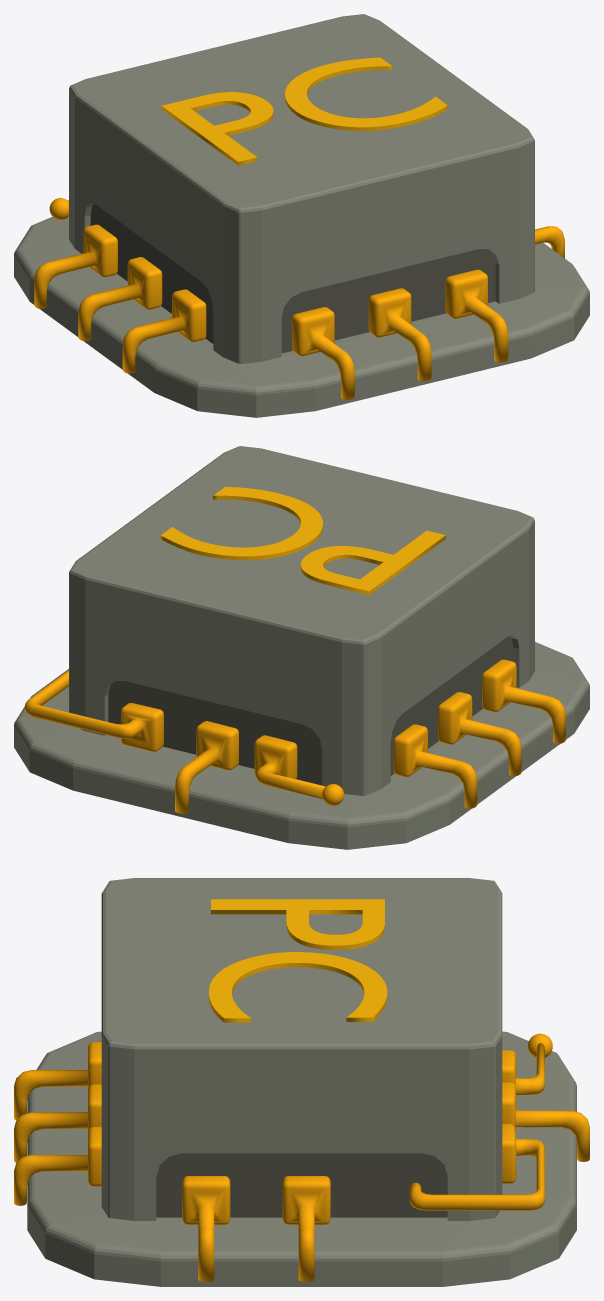
3 views of the same model, one above another, from view 1: azimuth 30°, elevation 25°; view 2: azimuth 150°, elevation 25°; view 3: azimuth 270°, elevation 25° (orthographic). The views are drawn at different scales.
Parts seen in each view (by area): view 1: Cube.010, Cube.009, Text.001; view 2: Cube.010, Cube.009, Text.001; view 3: Cube.010, Cube.009, Text.001.
Part boxes in pixels (x1,y1,x2,y2): Cube.010: (14, 14, 589, 417); Cube.009: (34, 198, 564, 399); Text.001: (161, 57, 447, 165); Cube.010: (14, 446, 589, 849); Cube.009: (24, 659, 565, 813); Text.001: (160, 487, 445, 594); Cube.010: (27, 878, 576, 1286); Cube.009: (14, 1033, 589, 1281); Text.001: (209, 899, 387, 1022).
Size of the model in its own units: 1.61 by 0.6617 by 1.61.
